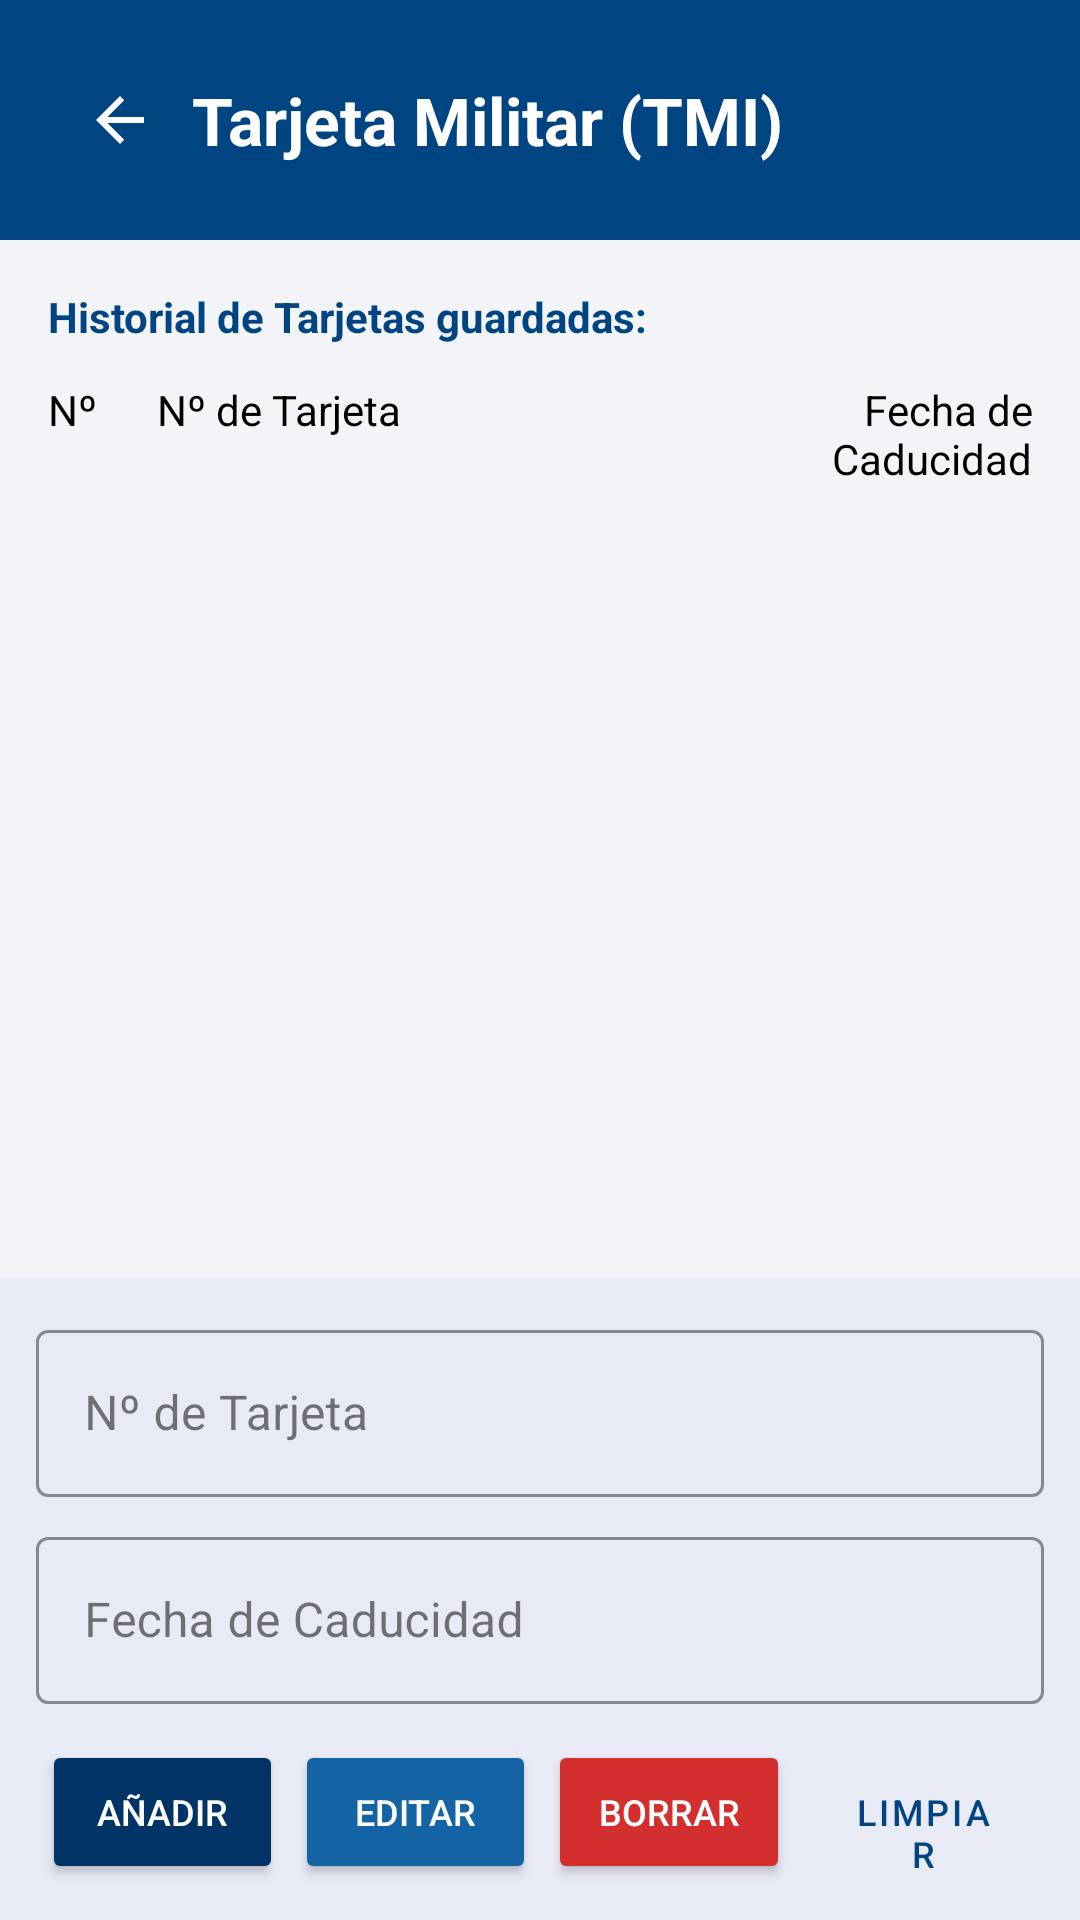

Icon bounding boxes for this 1080x1920 phone screenshot, format (x1, y1, x2, y2):
Volver: (96, 96, 144, 144)
